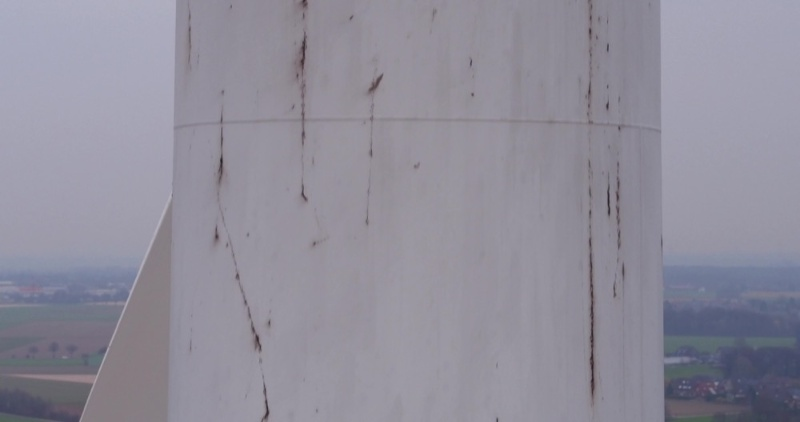weldseam: (172, 110, 666, 140)
